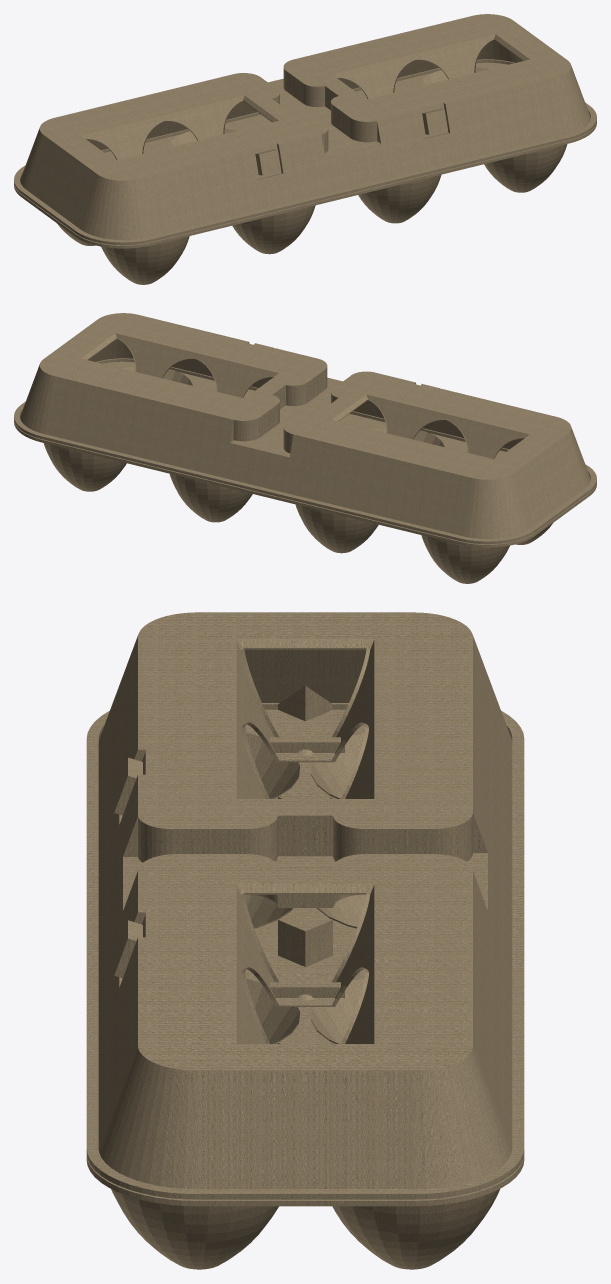
File: eggs.dae
The picture shows the model from 3 angles, top to bottom: view 1: azimuth 30°, elevation 25°; view 2: azimuth 150°, elevation 25°; view 3: azimuth 270°, elevation 25°; orthographic projection. The views are drawn at different scales.
Parts seen in each view (by area): view 1: SketchUp (×11); view 2: SketchUp (×9); view 3: SketchUp (×18).
Boxes of the visible parts, <box> form: SketchUp (×11): <box>14,14,596,284</box>; SketchUp (×9): <box>14,313,596,583</box>; SketchUp (×18): <box>86,612,524,1269</box>.
Size of the model in its own units: 11.85 by 4.37 by 2.58.
Materials: 2 (2 with a texture image).
